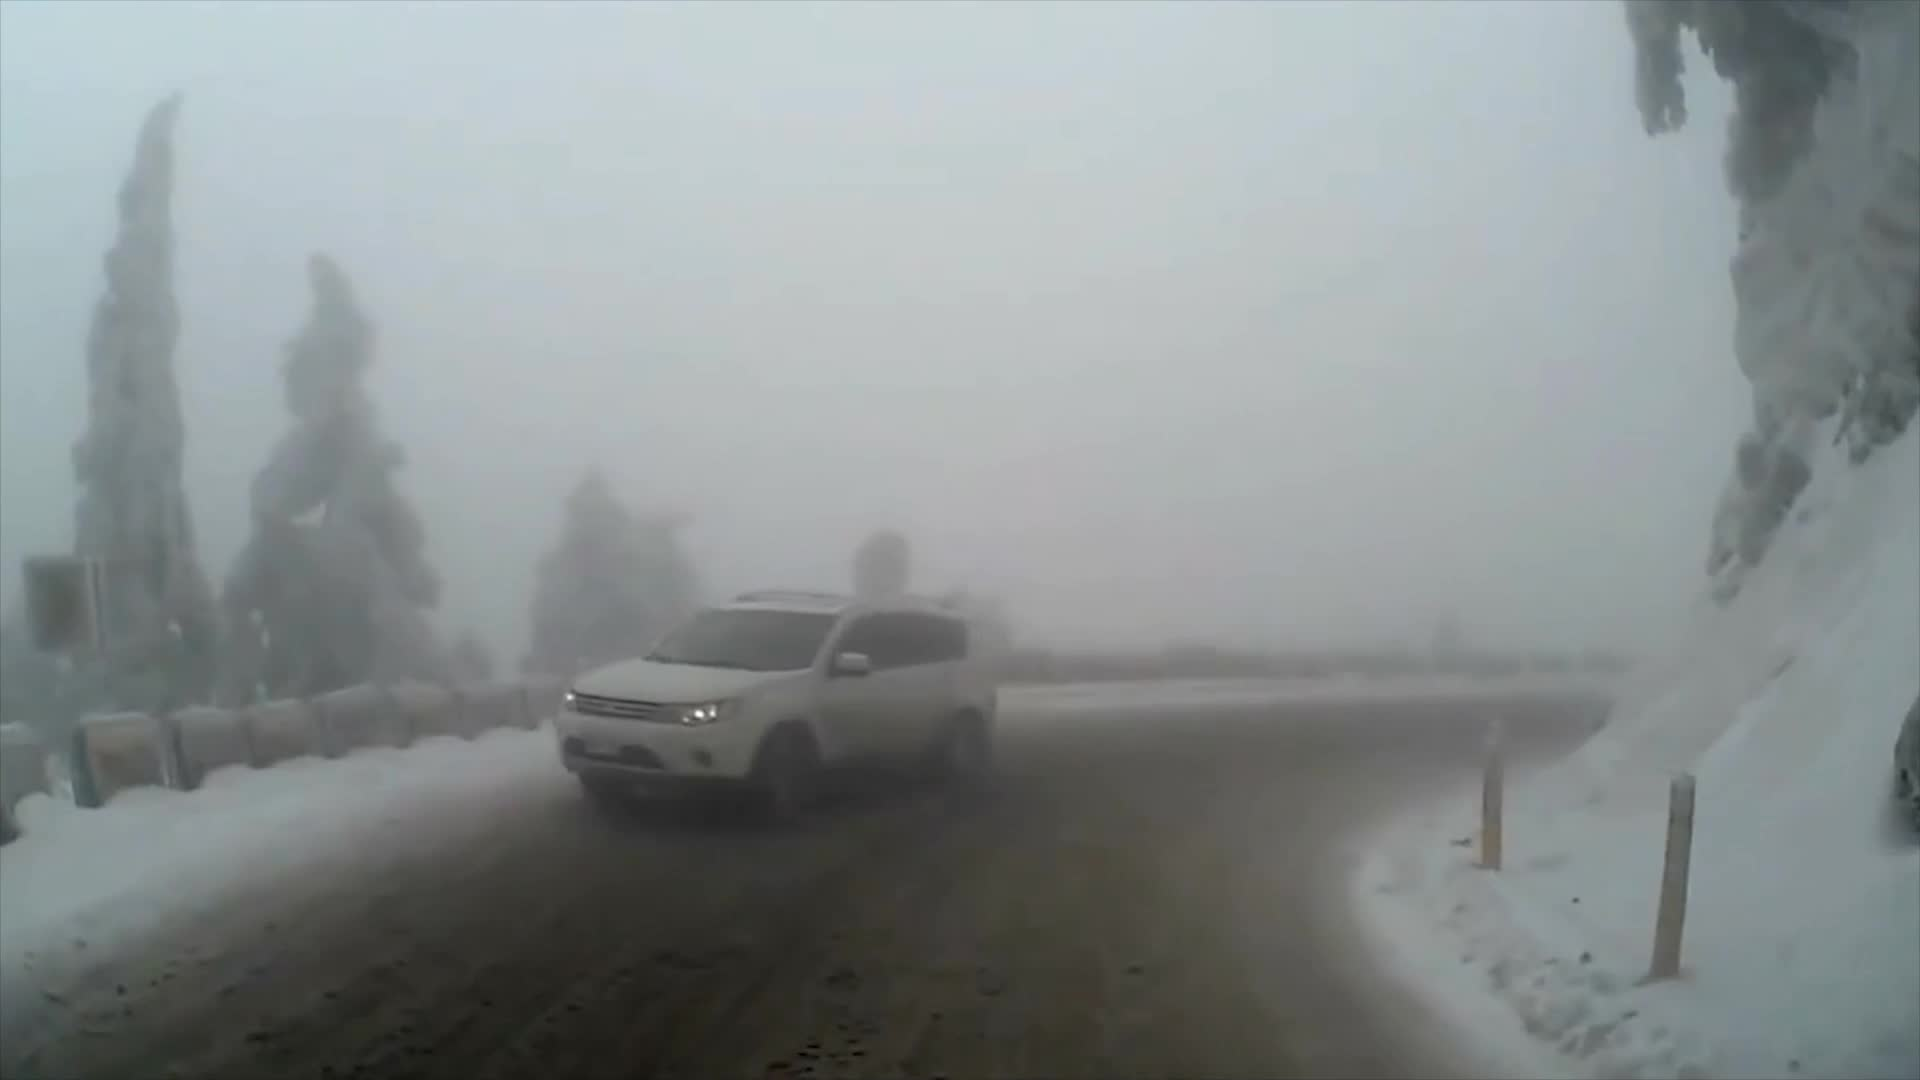vehicle: (549, 585, 996, 832)
